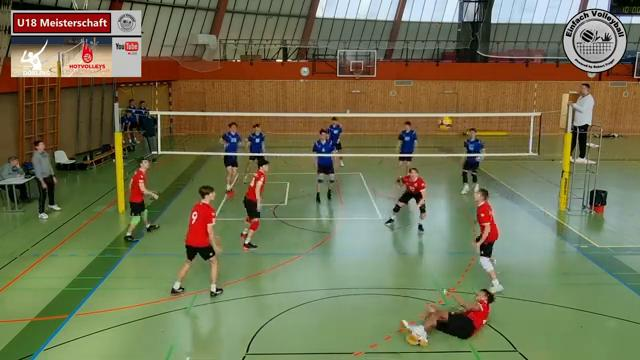Dig: (396, 285, 498, 347)
Player: (171, 185, 222, 296), (473, 188, 503, 292), (125, 159, 158, 240), (385, 168, 426, 231), (241, 158, 268, 250), (312, 129, 334, 202), (220, 122, 241, 196), (461, 128, 484, 193), (243, 124, 264, 183), (397, 121, 417, 174), (328, 117, 342, 152)
ball: (439, 116, 452, 131)
